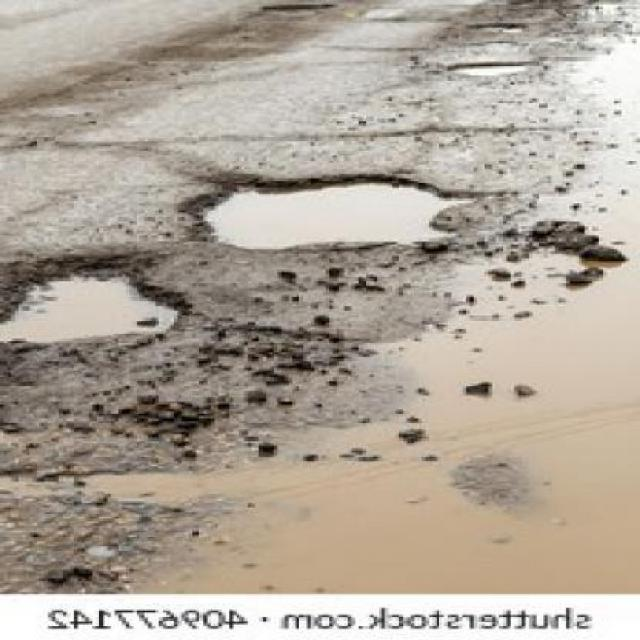pothole: (188, 173, 481, 253), (4, 257, 185, 346), (448, 62, 541, 79)
